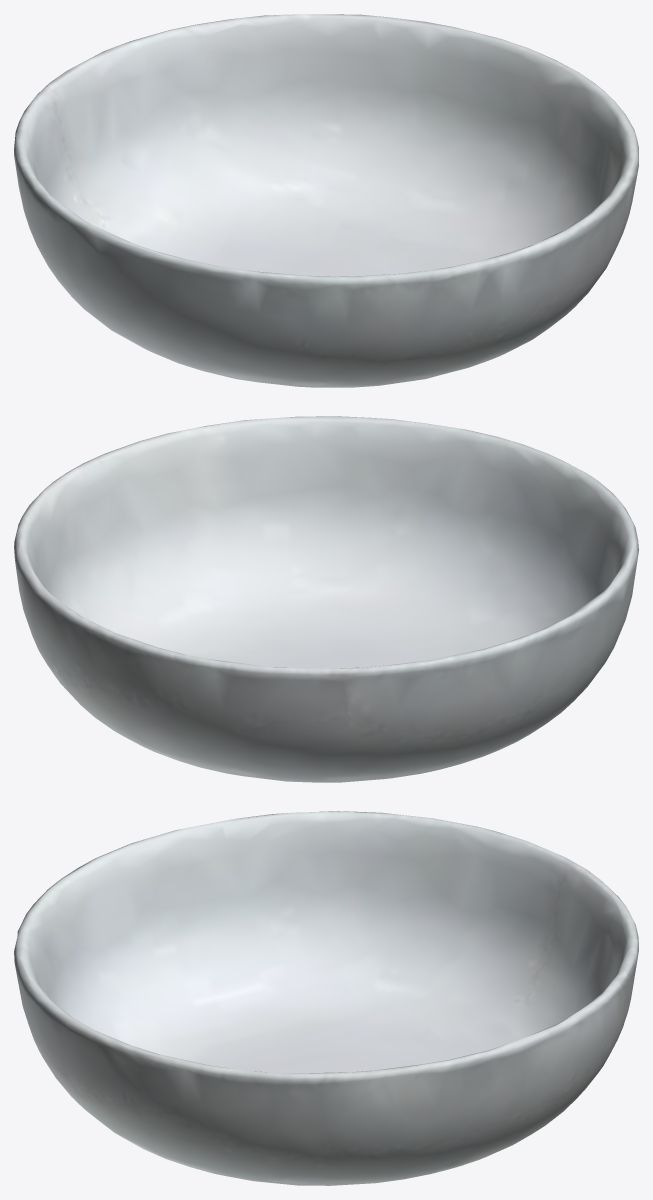
Rendered from Threshold_Porcelain_Serving_Bowl_Coupe_White-high.glb.
3 views of the same model, one above another, from view 1: azimuth 30°, elevation 25°; view 2: azimuth 150°, elevation 25°; view 3: azimuth 270°, elevation 25° (orthographic).
Parts seen in each view (by area): view 1: Threshold_Porcelain_Serving_Bowl_Coupe_White; view 2: Threshold_Porcelain_Serving_Bowl_Coupe_White; view 3: Threshold_Porcelain_Serving_Bowl_Coupe_White.
Part boxes in pixels (box(x1,y1,x2,y2)): Threshold_Porcelain_Serving_Bowl_Coupe_White: box(14, 14, 638, 387); Threshold_Porcelain_Serving_Bowl_Coupe_White: box(14, 416, 638, 782); Threshold_Porcelain_Serving_Bowl_Coupe_White: box(14, 811, 638, 1185).
Bounding box in the file's own units: 0.2082 × 0.0689 × 0.2093.
1 material, 1 textured.
